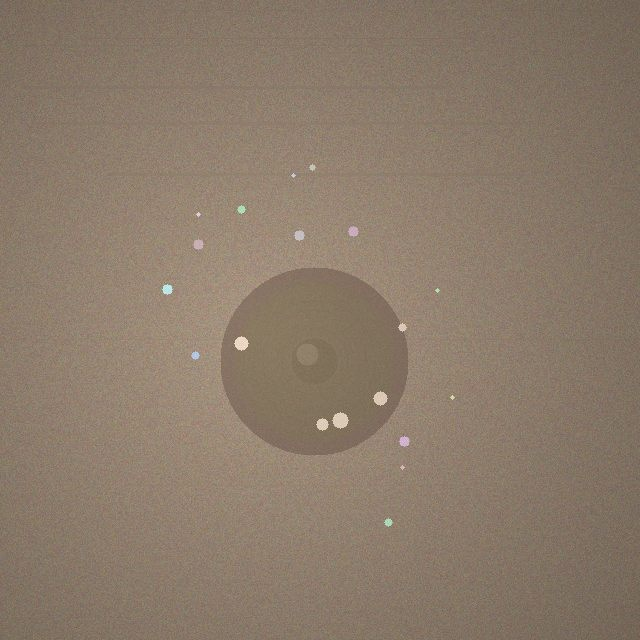overburn: (220, 267, 408, 455)
